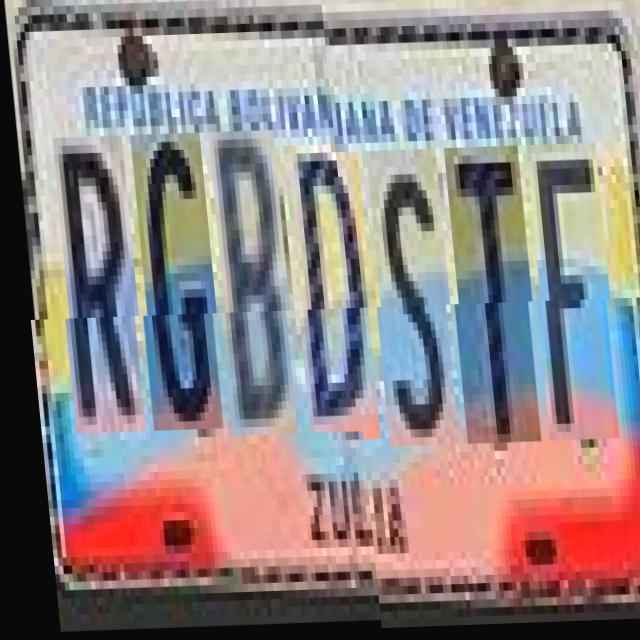B: (205, 140, 294, 446)
D: (285, 154, 376, 443)
F: (523, 147, 614, 445)
G: (128, 142, 220, 440)
R: (50, 144, 142, 442)
S: (363, 152, 454, 450)
T: (441, 150, 536, 448)
